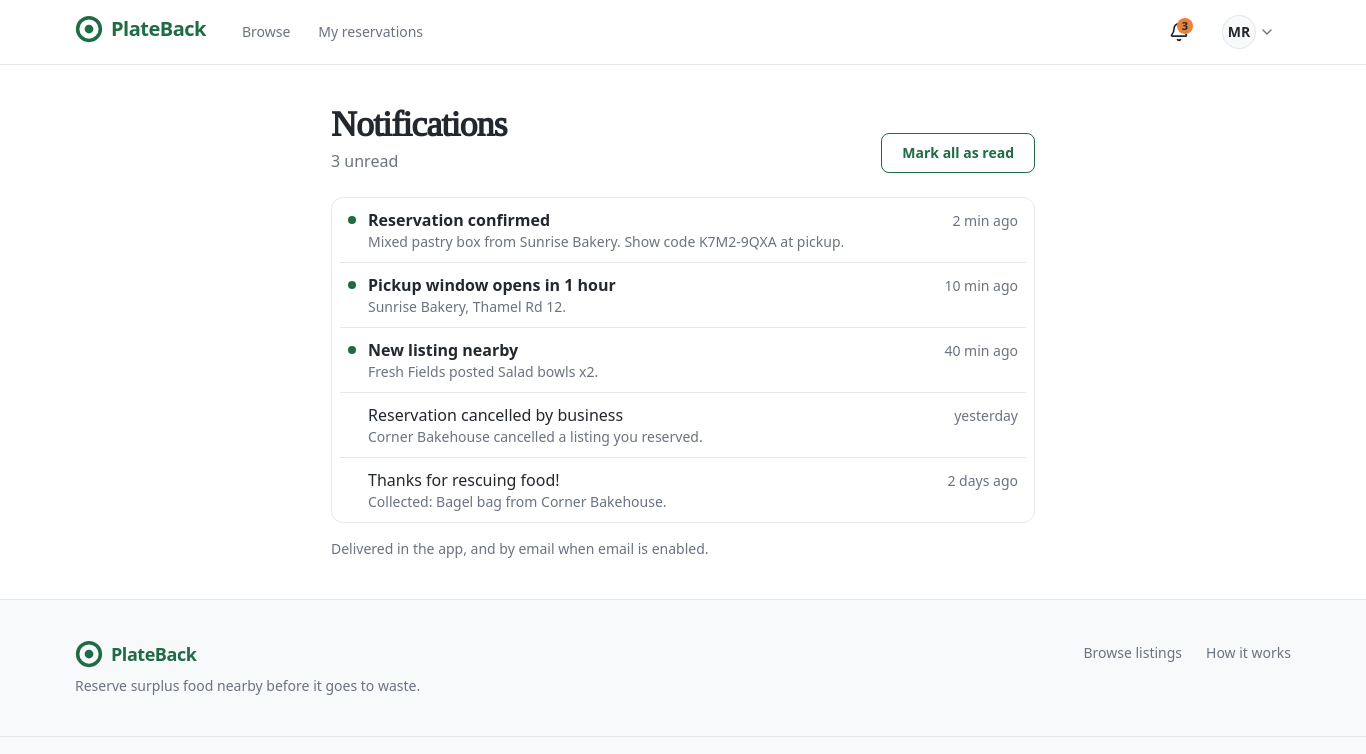
Test: NotificationsPage › lists notifications and marks them all read
The width and height of the screenshot is (1366, 754).
Check: the heading "Notifications" is shown, box [331,105,507,145]
Check: the text "3 unread" is shown, box [331,150,398,172]
What coordinates should you click on to do the following:
click the button "Mark all as read"
I would click on:
 (958, 153)
Its box is [881,133,1035,173].
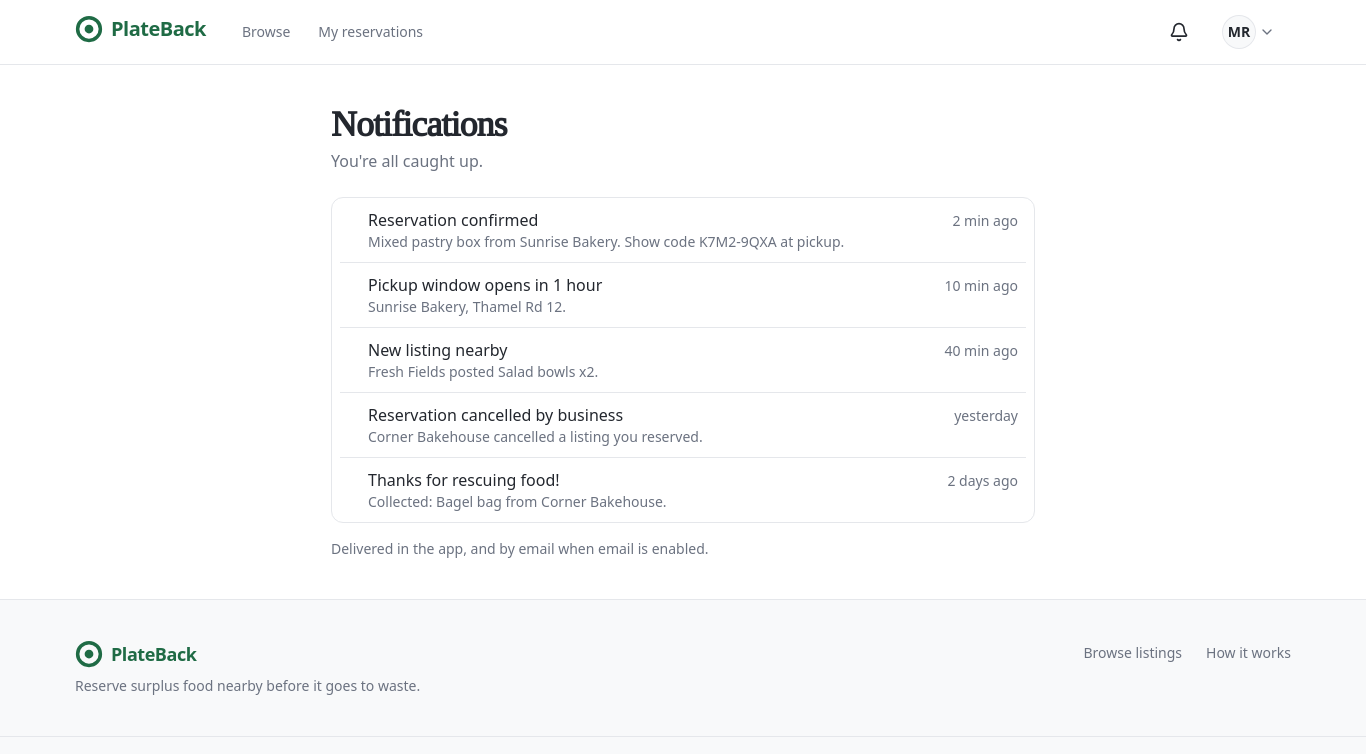
Check: the text "You're all caught up." is shown, box [331,149,507,173]
